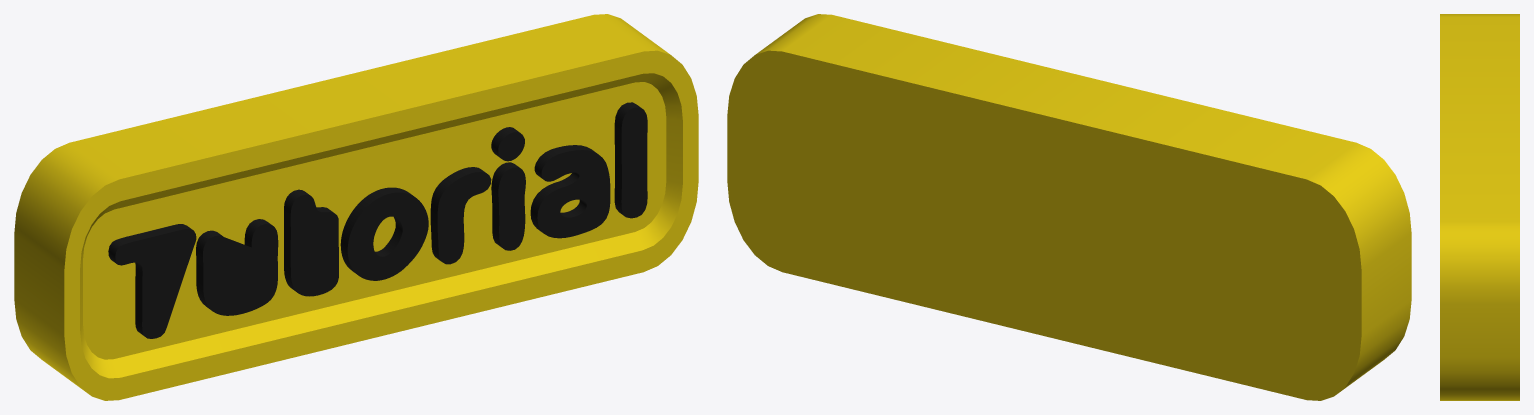
File: botao_tutorial.fbx
3 renders of one model, left to right at view 1: azimuth 30°, elevation 25°; view 2: azimuth 150°, elevation 25°; view 3: azimuth 270°, elevation 25°, orthographic. The views are drawn at different scales.
Parts seen in each view (by area): view 1: Botao_Tutorial; view 2: Botao_Tutorial; view 3: Botao_Tutorial.
Boxes of the visible parts, box(x1,y1,x2,y2) form: Botao_Tutorial: box(14, 14, 698, 400); Botao_Tutorial: box(727, 14, 1411, 400); Botao_Tutorial: box(1440, 14, 1519, 400).
Bounding box in the file's own units: 172 × 57.25 × 23.54.
